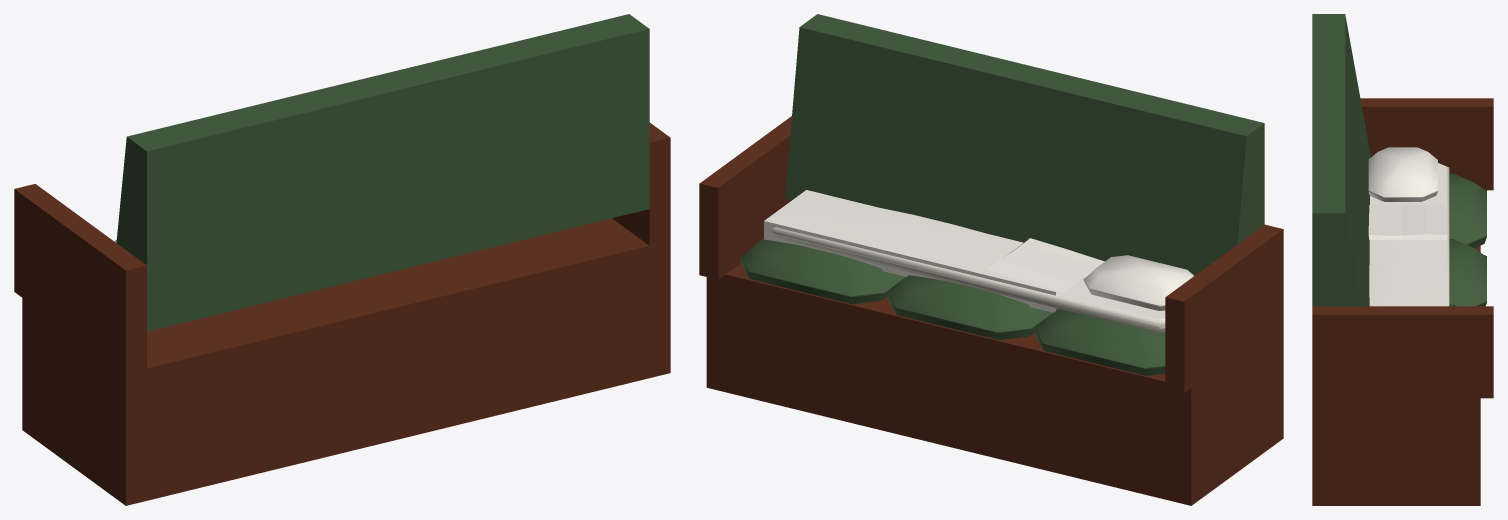
The picture shows the model from 3 angles, left to right: view 1: azimuth 30°, elevation 25°; view 2: azimuth 150°, elevation 25°; view 3: azimuth 270°, elevation 25°; orthographic projection. The views are drawn at different scales.
Parts seen in each view (by area): view 1: parametric-variant-settee-1st-c4fedf0600543c4b5793; view 2: parametric-variant-settee-1st-c4fedf0600543c4b5793; view 3: parametric-variant-settee-1st-c4fedf0600543c4b5793.
Part boxes in pixels (box(x1,y1,x2,y2)): parametric-variant-settee-1st-c4fedf0600543c4b5793: box(14, 14, 670, 505); parametric-variant-settee-1st-c4fedf0600543c4b5793: box(699, 14, 1283, 505); parametric-variant-settee-1st-c4fedf0600543c4b5793: box(1312, 14, 1493, 505).
Size of the model in its own units: 1.55 by 0.95 by 0.55.
